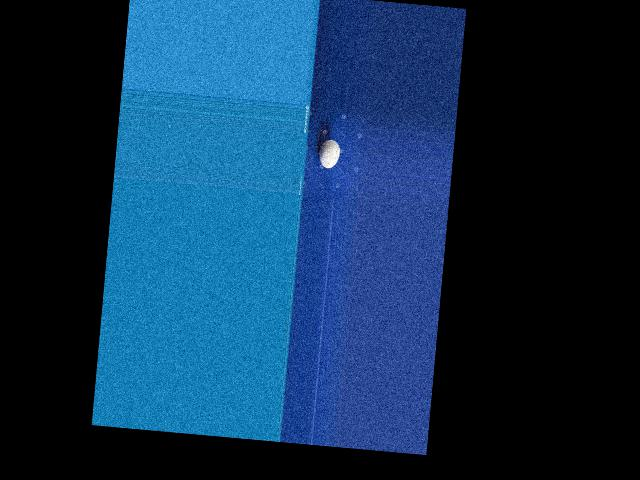egg: (317, 139, 340, 169)
